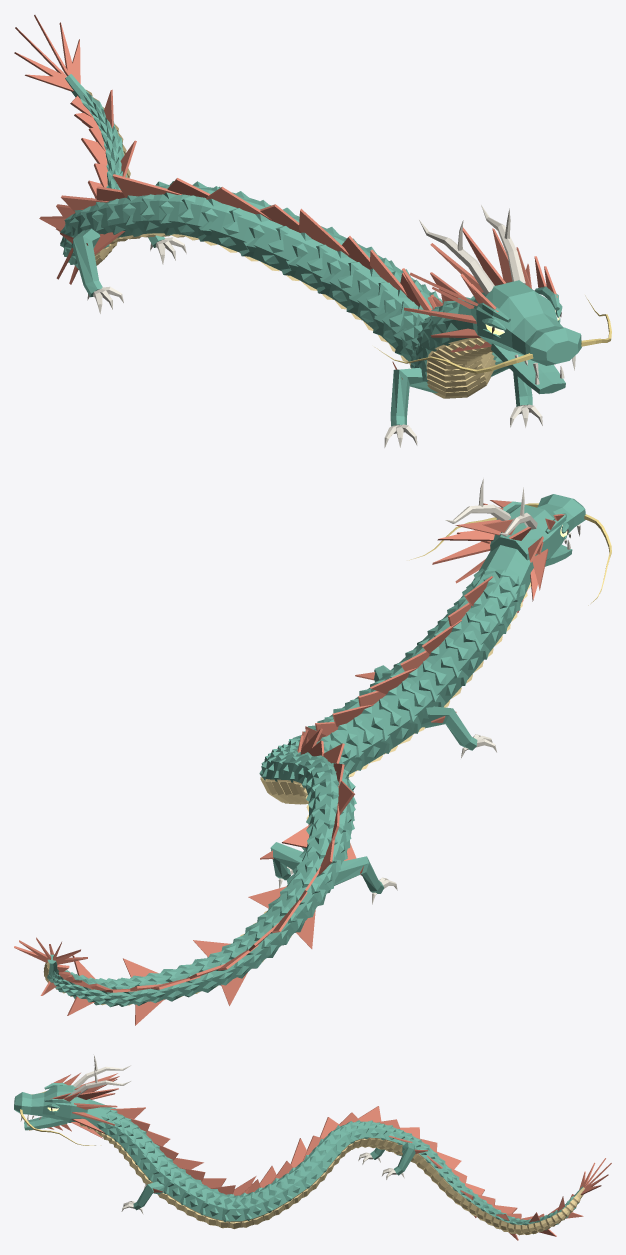
The model's file is Dragon_Long_v2.glb.
3 views of the same model, one above another, from view 1: azimuth 30°, elevation 25°; view 2: azimuth 150°, elevation 25°; view 3: azimuth 270°, elevation 25° (orthographic). The views are drawn at different scales.
Parts seen in each view (by area): view 1: Body, Fins, Belly, Horns, Whiskers; view 2: Body, Fins, Horns, Belly; view 3: Body, Fins, Belly, Horns.
Part boxes in pixels (x1=…): Body: x1=60, y1=74, x2=581, y2=426; Fins: x1=14, y1=15, x2=557, y2=379; Belly: x1=86, y1=90, x2=495, y2=398; Horns: x1=87, y1=205, x2=575, y2=447; Whiskers: x1=375, y1=295, x2=611, y2=373; Body: x1=47, y1=494, x2=585, y2=1007; Fins: x1=14, y1=500, x2=564, y2=1025; Horns: x1=278, y1=478, x2=580, y2=904; Belly: x1=43, y1=582, x2=531, y2=1005; Body: x1=14, y1=1082, x2=582, y2=1234; Fins: x1=47, y1=1073, x2=611, y2=1240; Belly: x1=29, y1=1123, x2=584, y2=1235; Horns: x1=20, y1=1055, x2=404, y2=1214.
Size of the model in its own units: 14.48 by 18.53 by 57.08.
